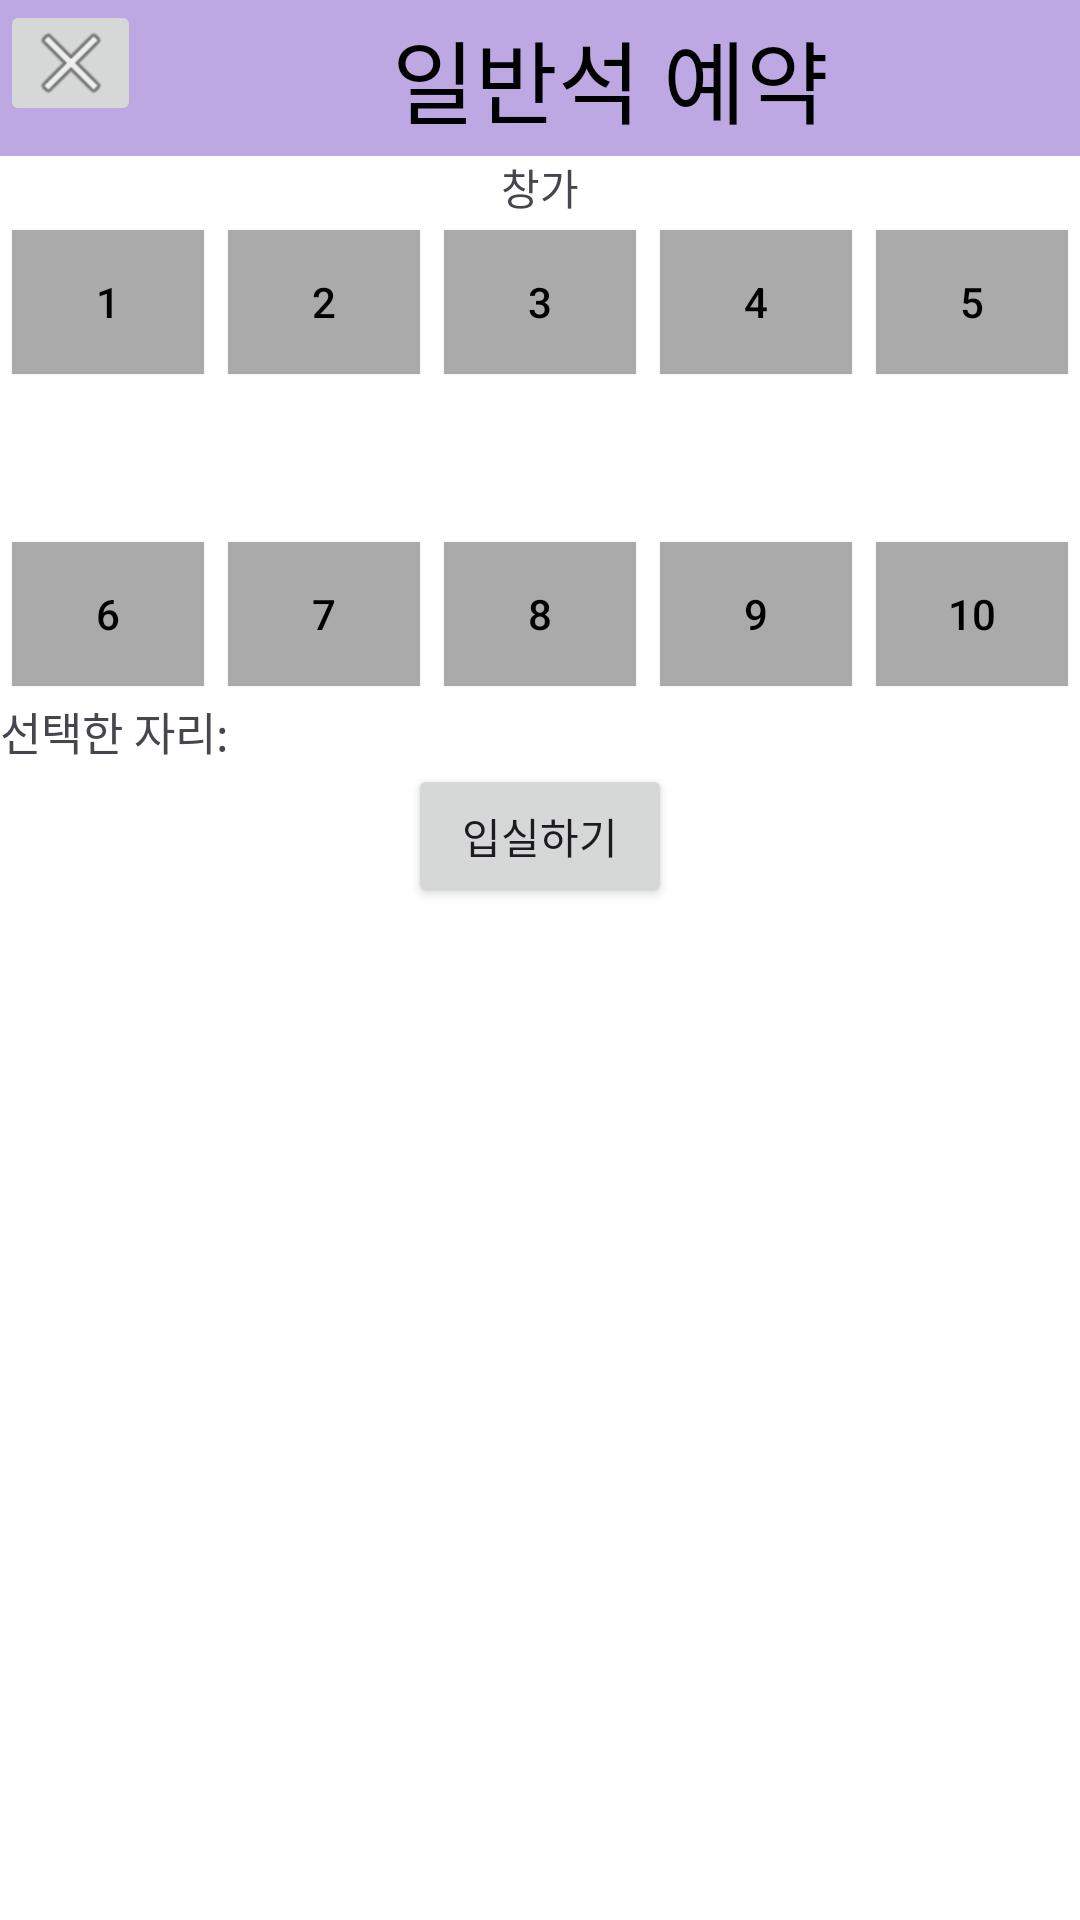

Where to tap for icons on this 1080 × 1920 app screen, as [x,y]:
close clear cancel: [70,63]
